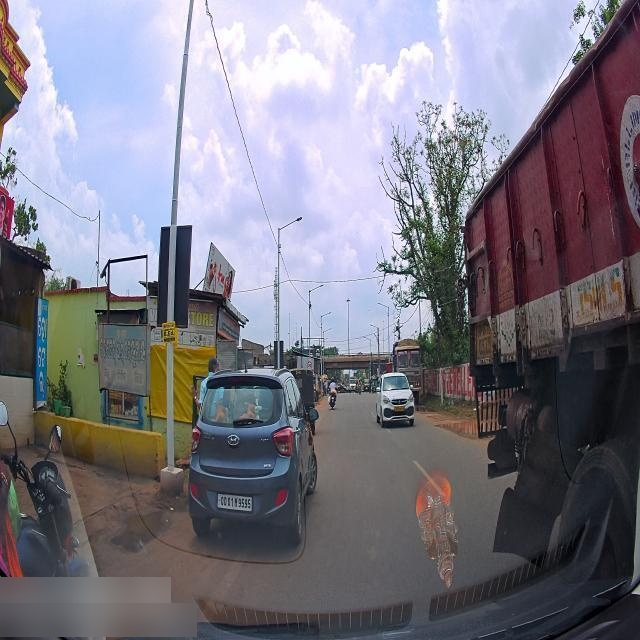pothole: (108, 493, 171, 555), (436, 416, 496, 444)
